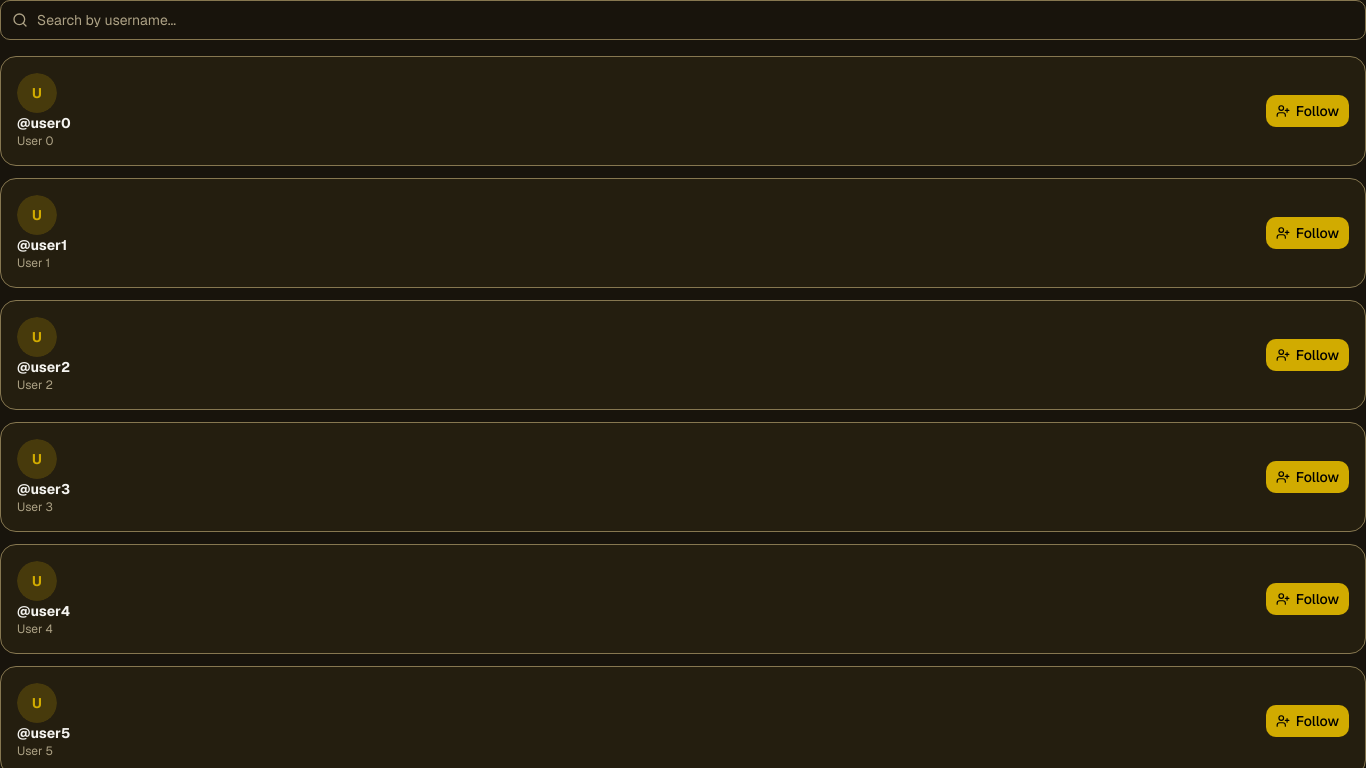
Test: FollowList › filters users by search query
In the field named "Search users": (683, 20) [0, 0, 1365, 40], type "user0"
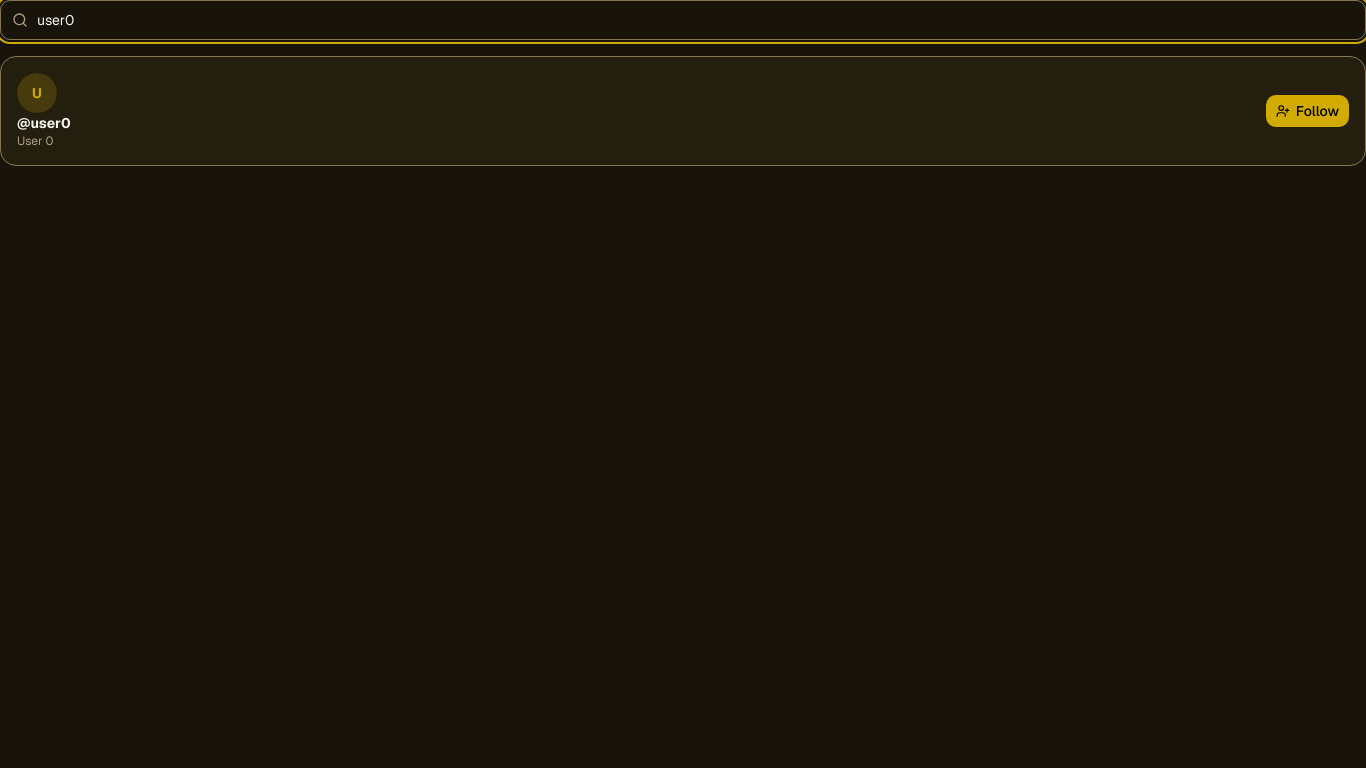
Expected: the text "@user0" is shown, [17, 113, 71, 133]
Expected: the link "@user1" is gone
